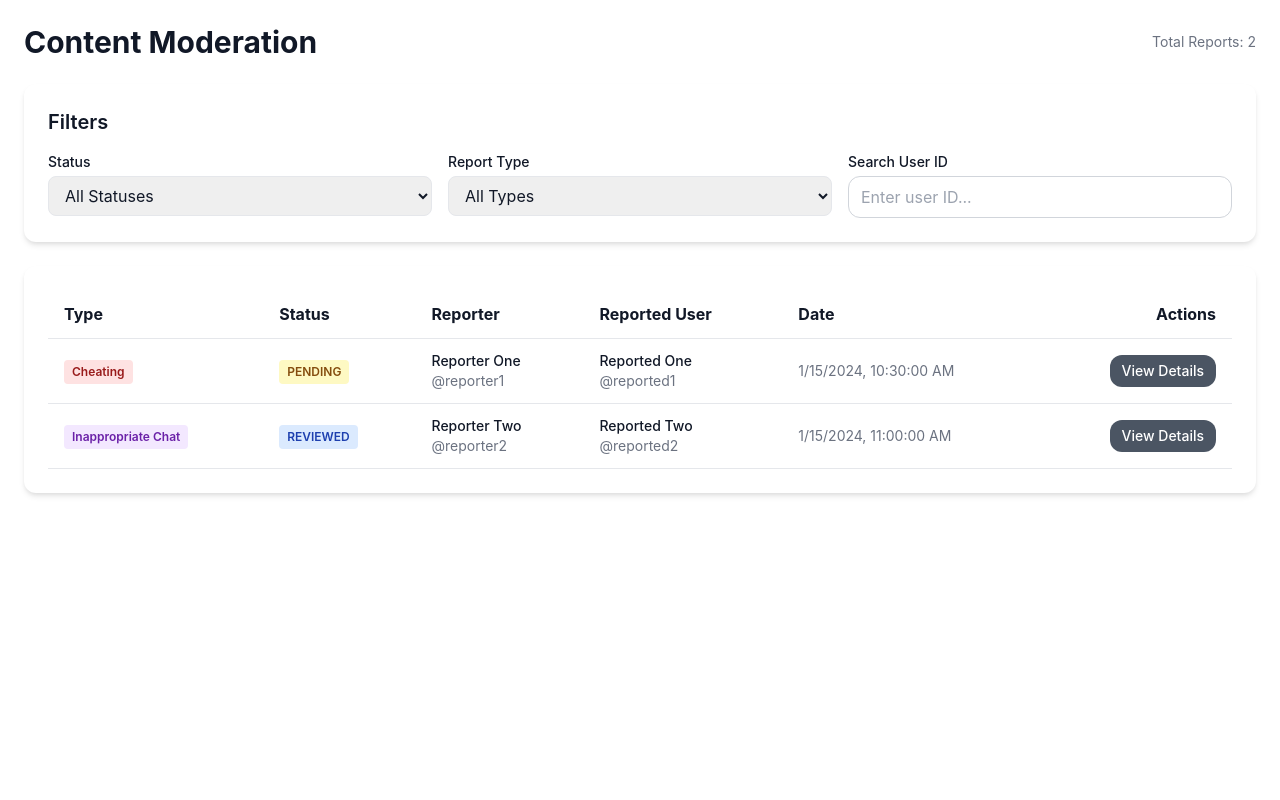
ModerationPage › opens report detail modal when View Details is clicked
Expected: the text "Reporter One" is shown, [432, 352, 521, 369]
Click the button "View Details" in the row of "Cheating": (1163, 371) [1110, 355, 1216, 387]
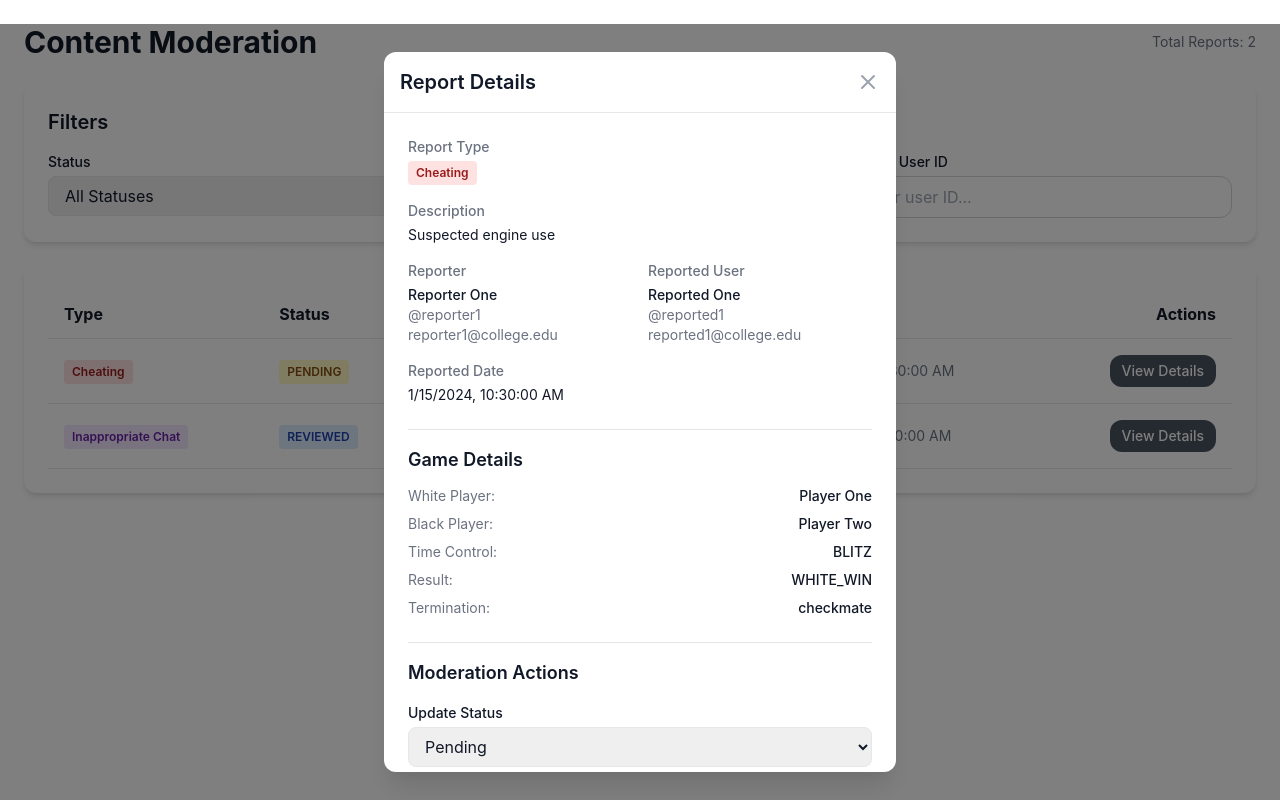
Now the heading "Report Details" is shown, box [400, 68, 536, 96]
Now the text "Suspected engine use" is shown, box [408, 226, 555, 243]
